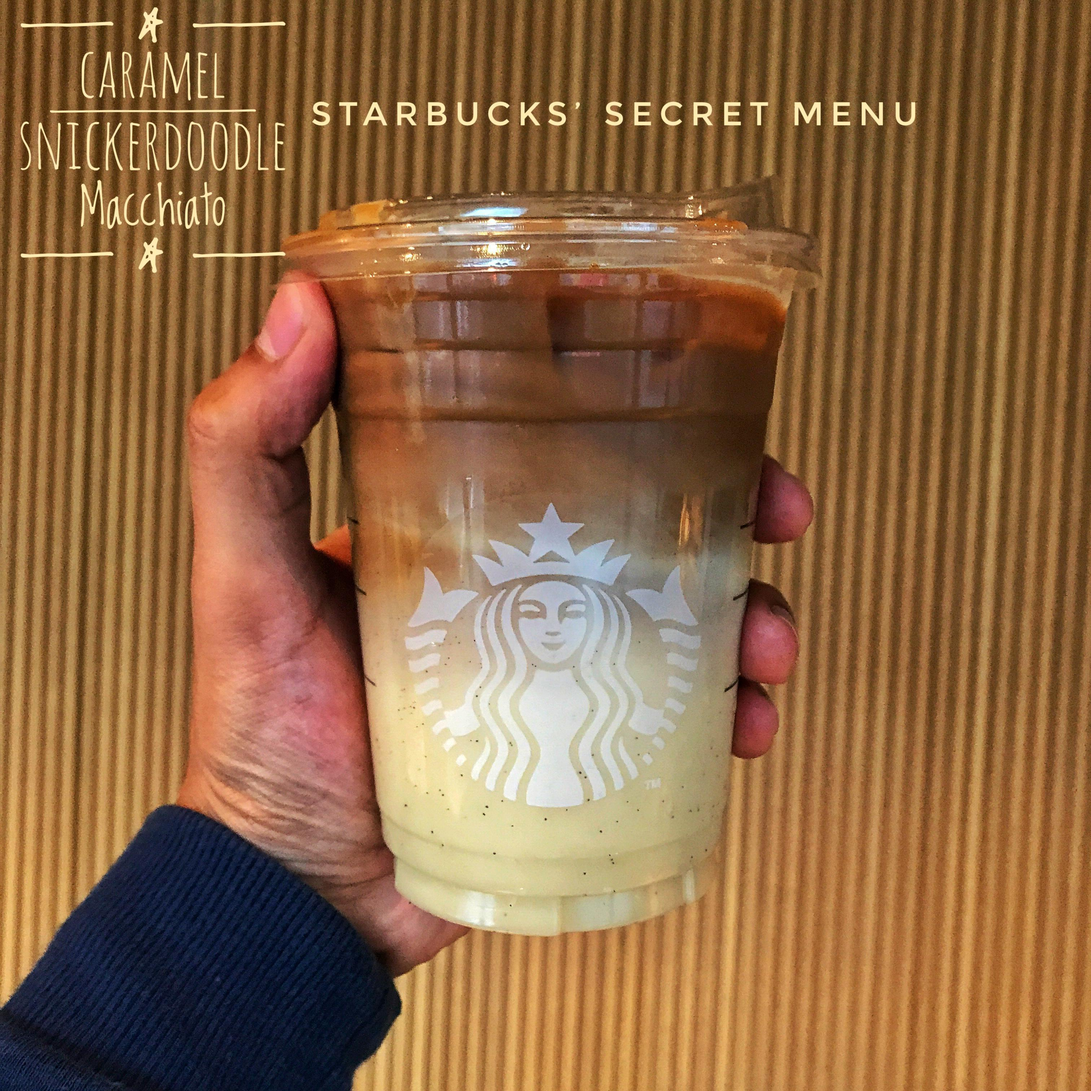cup-disposable: (279, 170, 811, 937)
